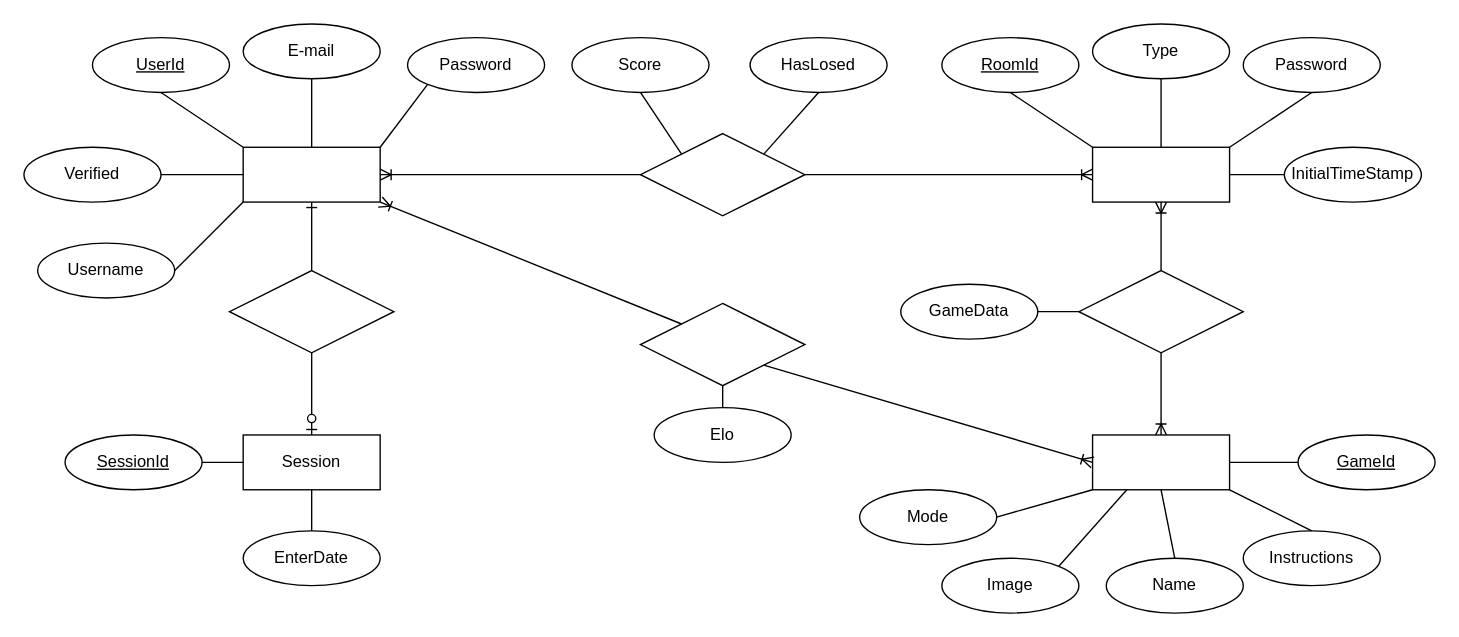
Image size: 1459x637. Some labels were removed from this diagram. The shapes that lost their labels are listed below. From the top down, each one's centre as x and y in pixels, then its label:
At [311,174]: "User".
At [722,174]: "Playing".
At [1160,174]: "Room".
At [311,311]: "Logged".
At [1160,311]: "GameRoom".
At [722,344]: "Ranking".
At [1160,462]: "Game".
